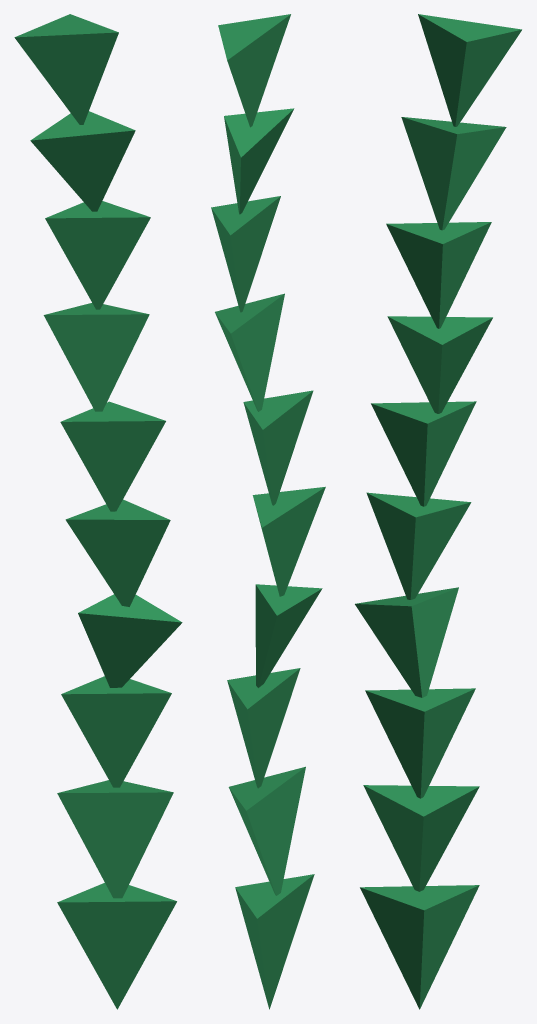
File: algea.obj
3 renders of one model, left to right at view 1: azimuth 90°, elevation 25°; view 2: azimuth 150°, elevation 25°; view 3: azimuth 270°, elevation 25°, orthographic.
Size of the model in its own units: 1.05 by 13.23 by 2.04.
